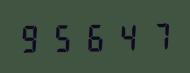five: (49, 20, 79, 53)
four: (111, 19, 141, 52)
nine: (18, 21, 48, 53)
seven: (142, 19, 172, 51)
six: (80, 20, 110, 52)
